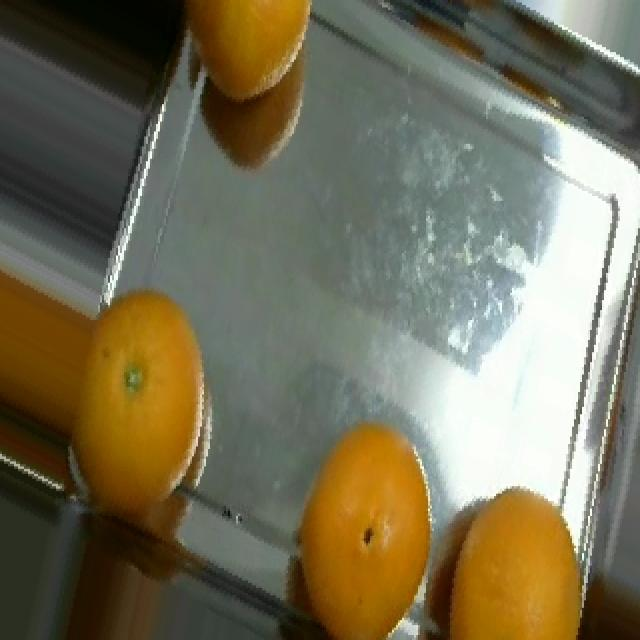Fruit: (172, 0, 334, 198), (0, 0, 196, 141)
